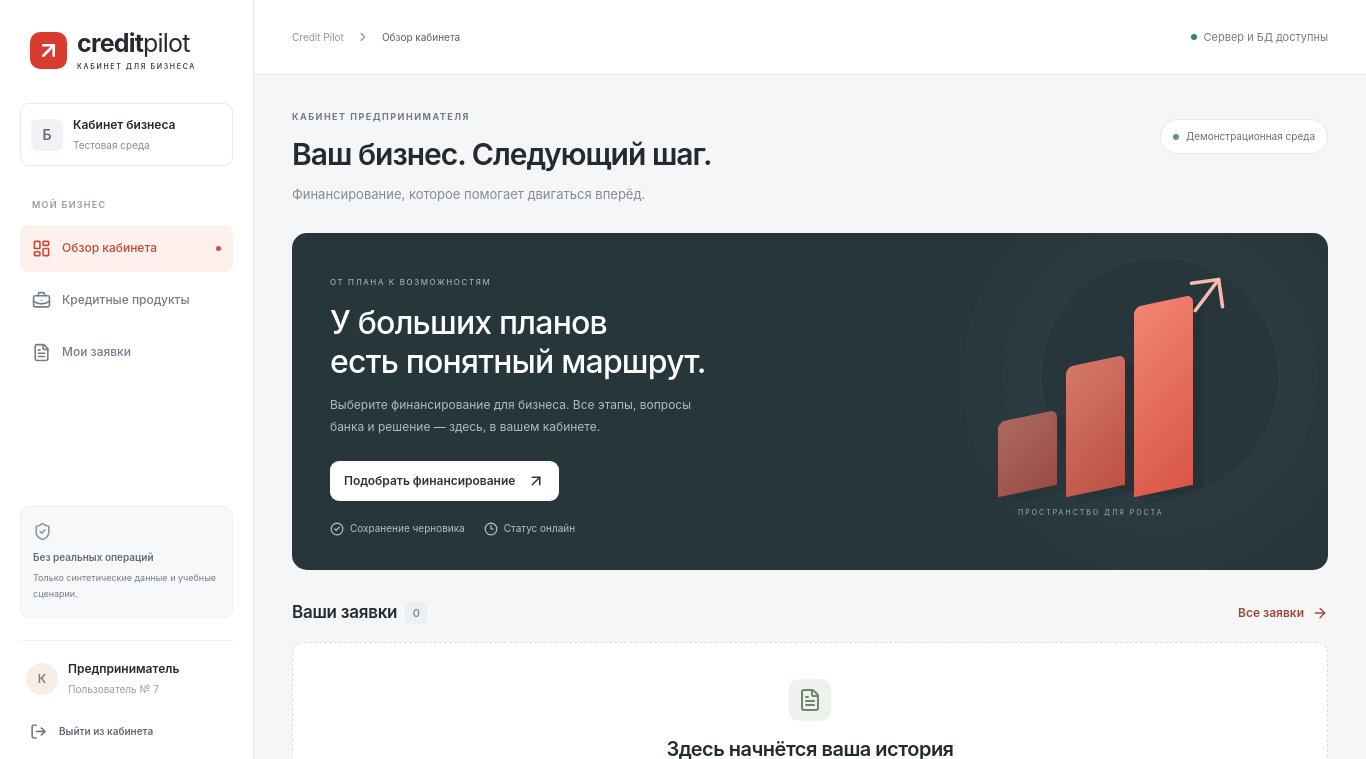
Test case: серверная сессия и навигация › не изображает успешный выход при ошибке сервера
This screenshot has width=1366, height=759.
Check: the navigation bar is shown, box [20,224,233,376]
Click the button "Выйти из кабинета". click: x=126, y=731
box: [20,711,233,751]
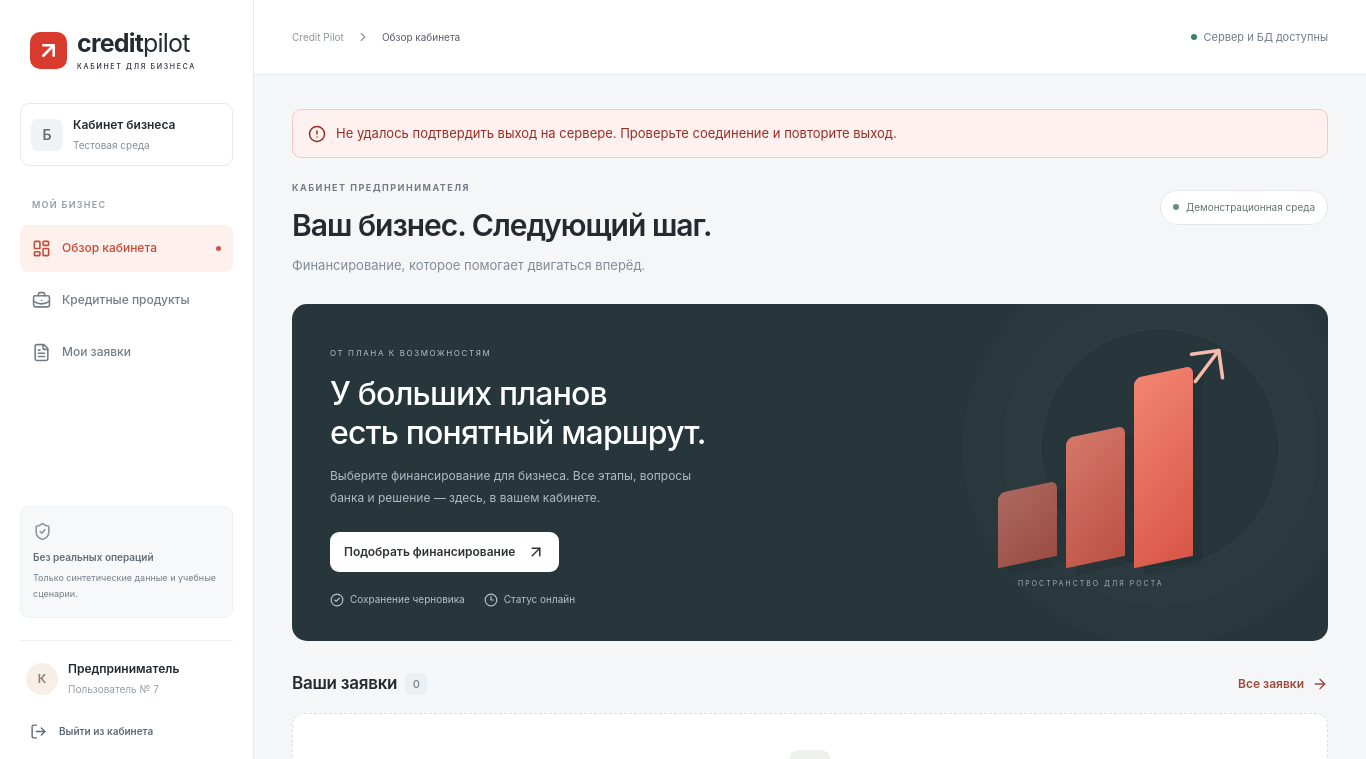
Check: the navigation bar is shown, box [20,224,233,376]
Check: the 2nd message shows "Не удалось подтвердить выход", box [336,125,897,141]
